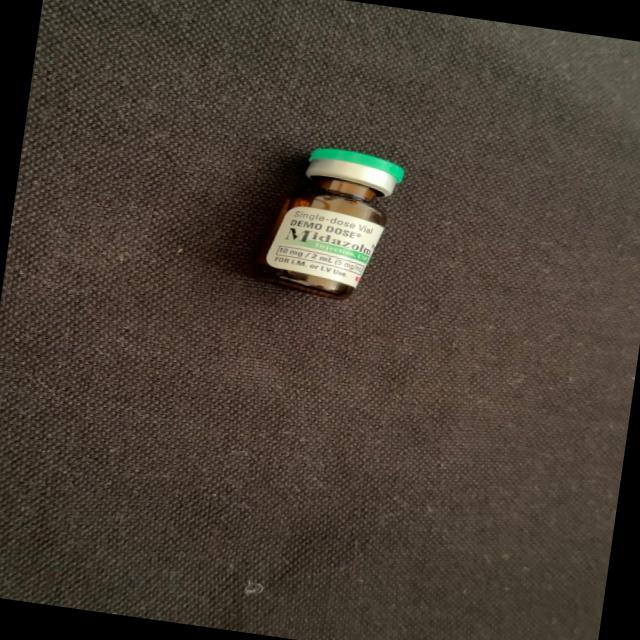midazolm: (251, 142, 404, 303)
